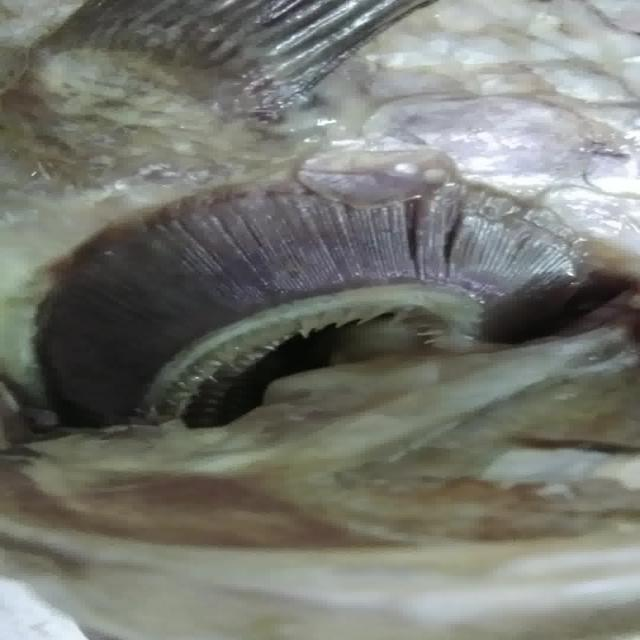Non-Fresh: (10, 178, 616, 423)
